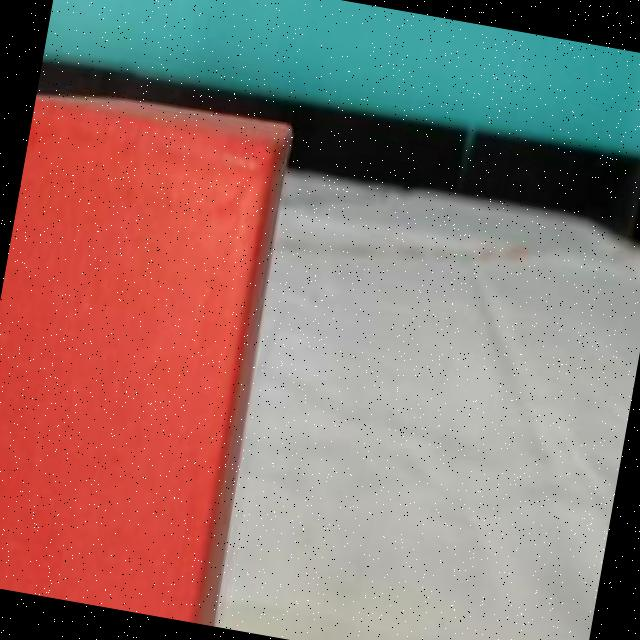redbox: (0, 86, 286, 623)
